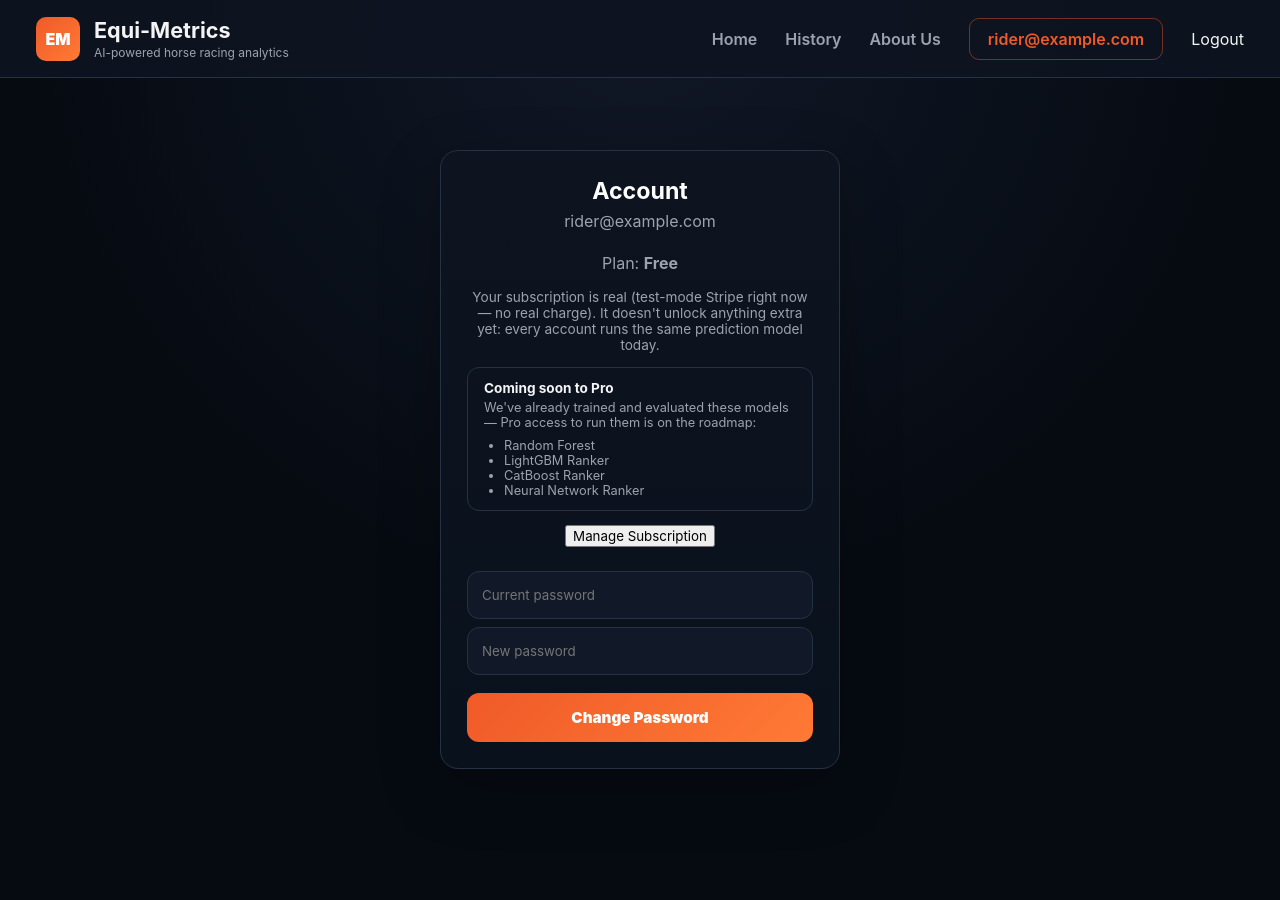
Test: Account › shows the API's error message if the current password is wrong
In the password field labelled "Current password": (640, 595) [467,571,813,619], type "wrong-password"
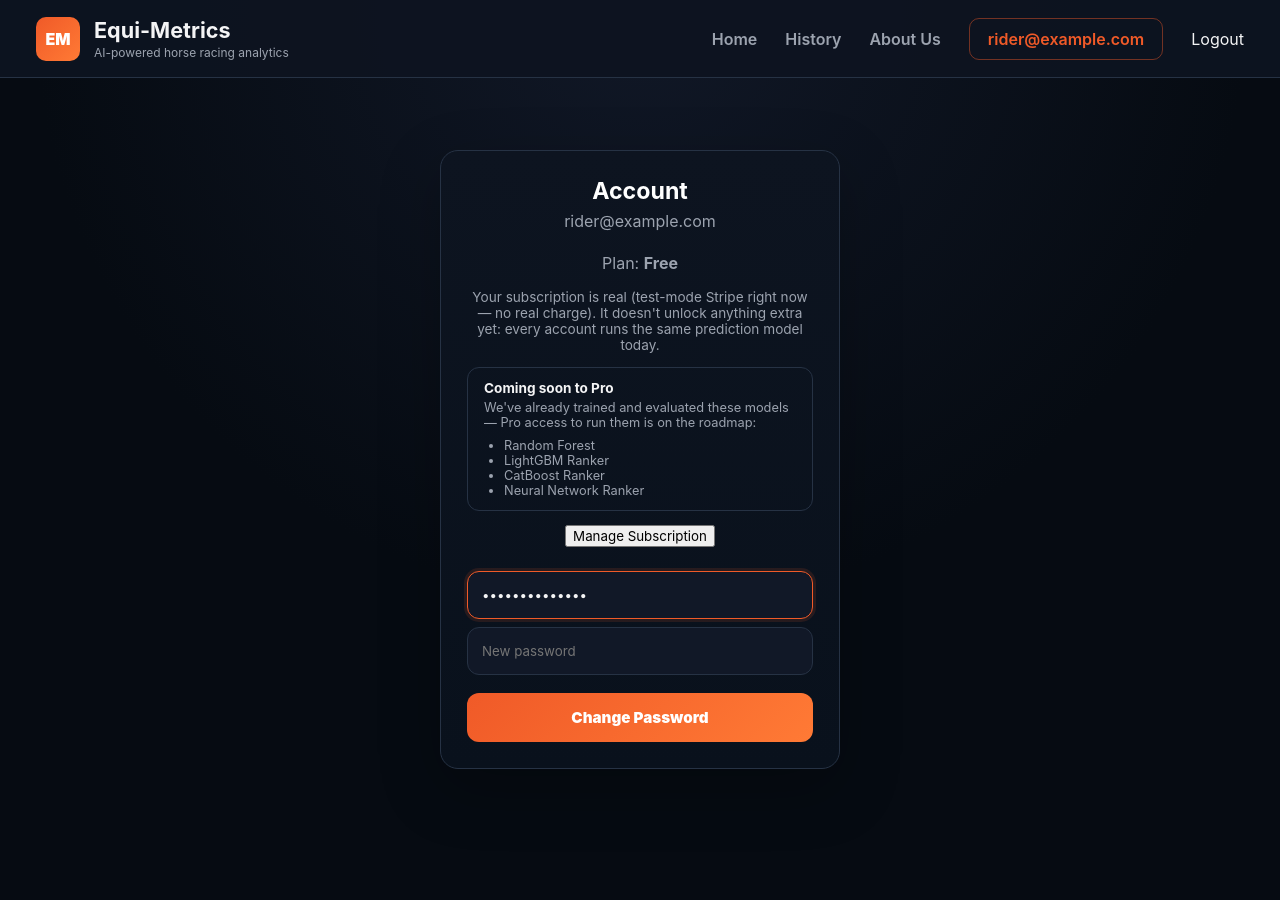
In the password field labelled "New password": (640, 651) [467,627,813,675], type "brand-new-password"
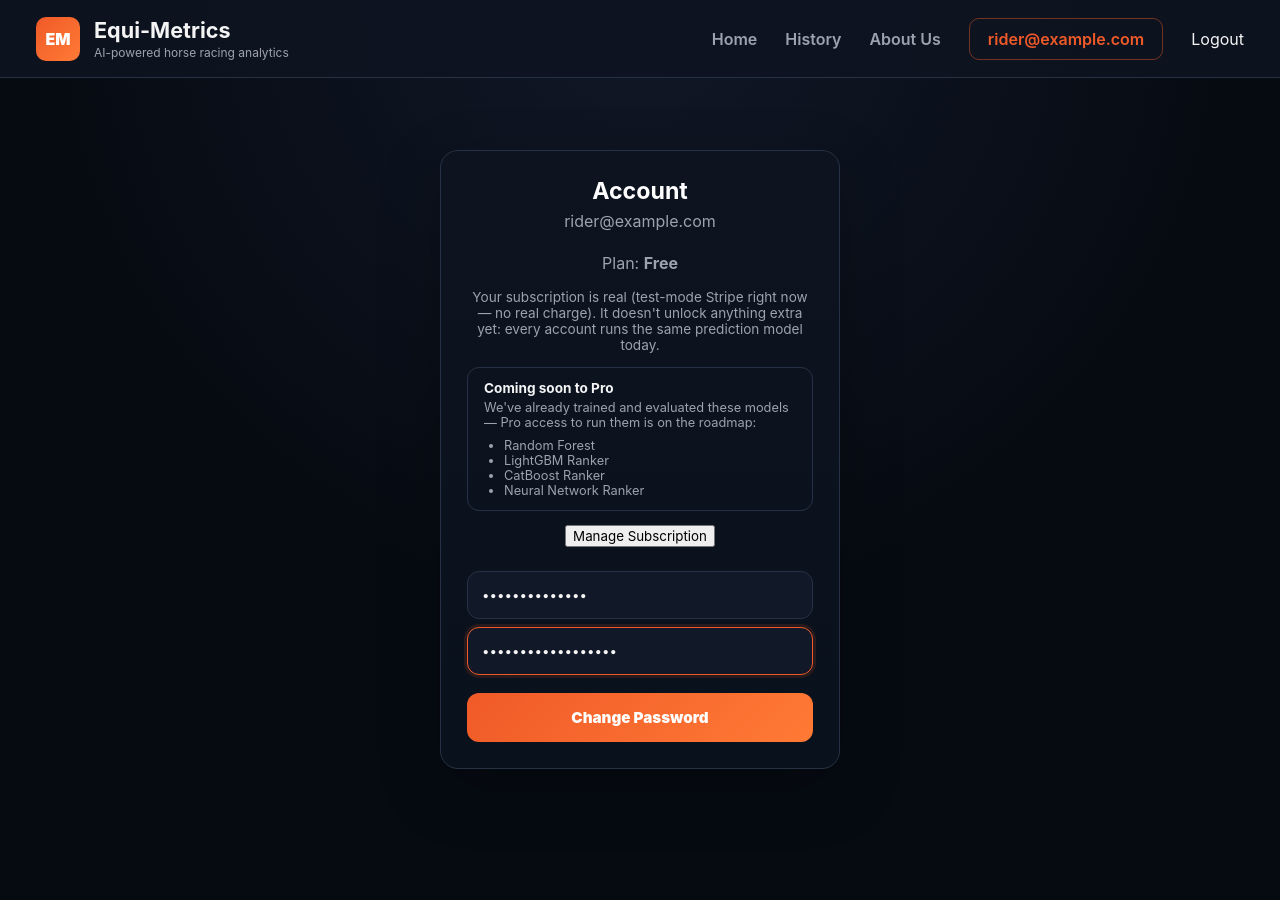
Click the button "Change Password": (640, 717) [467,693,813,742]
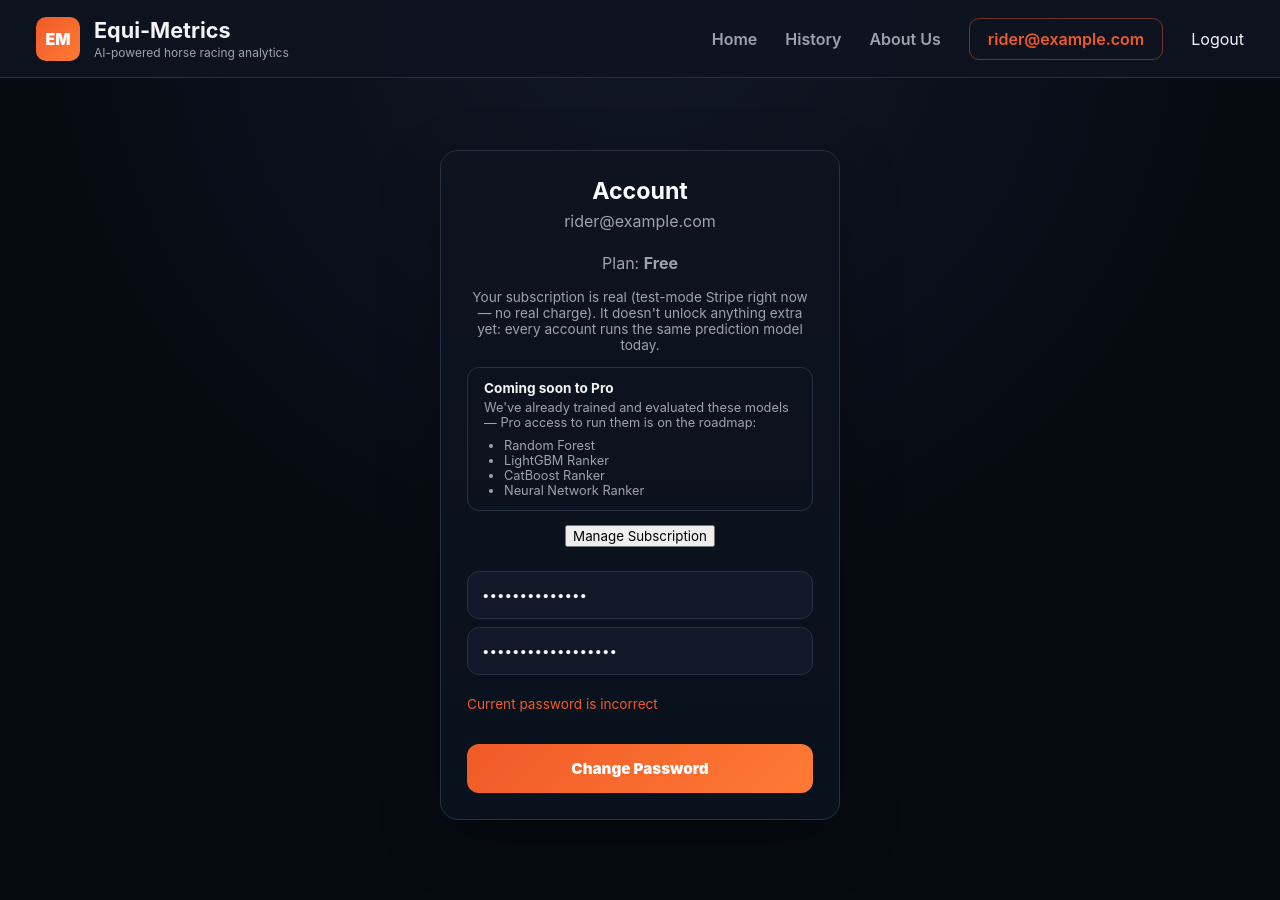
Expected: the text "Current password is incorrect" is shown, [467,696,658,712]
